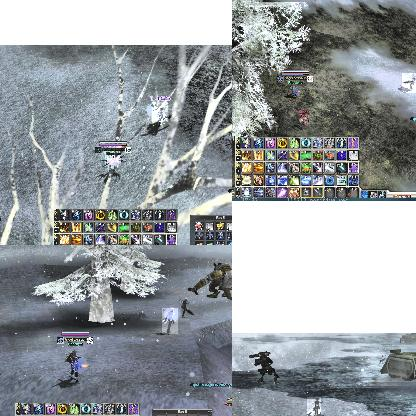caliana: (162, 308, 178, 334), (152, 102, 168, 122), (401, 73, 416, 92), (306, 397, 321, 416), (180, 298, 194, 318), (379, 354, 384, 364)
